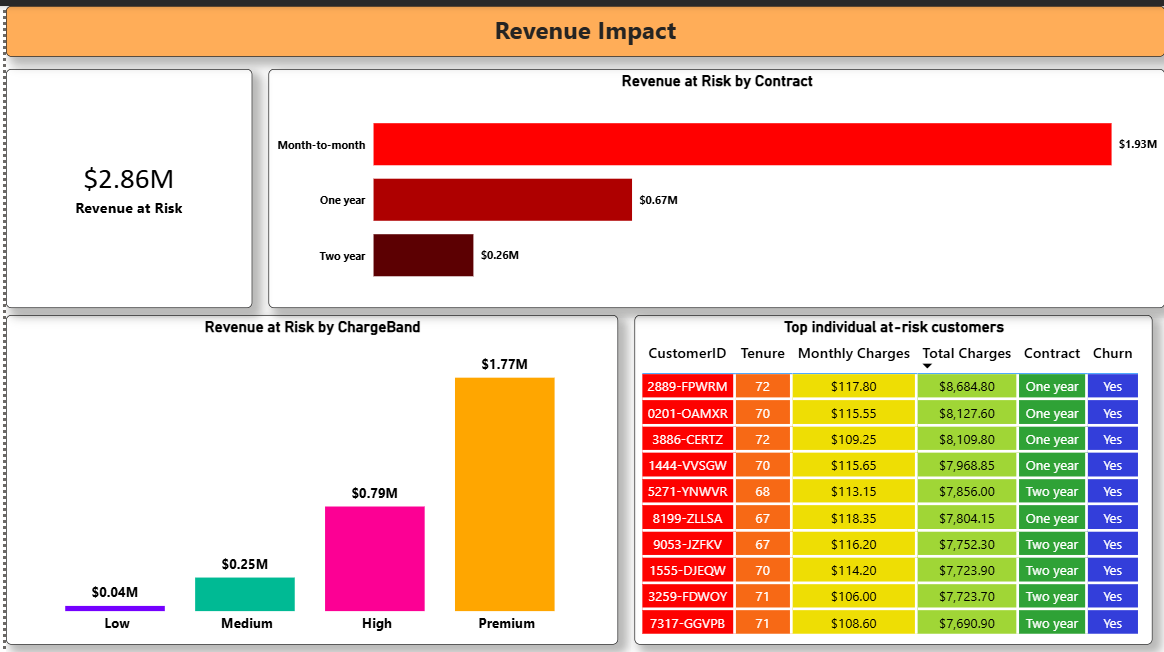

The dashboard page shown, as its layout file describes it:
{"tool":"powerbi","page":{"name":"Page 3","canvas":[1280,720],"ordinal":2},"visuals":[{"type":"cardVisual","fields":{"Data":["2 Cleaned_data.Revenue at Risk"]},"box":[0,70,272,264],"z":0},{"type":"clusteredBarChart","title":"Revenue at Risk by Contract","fields":{"Category":["2 Cleaned_data.Contract"],"Y":["2 Cleaned_data.Revenue at Risk"]},"box":[290,70,990,264],"z":1000},{"type":"columnChart","fields":{"Y":["2 Cleaned_data.Revenue at Risk"],"Category":["2 Cleaned_data.ChargeBand"]},"box":[0,342,676,364],"z":2000},{"type":"tableEx","title":"Top individual at-risk customers","fields":{"Values":["2 Cleaned_data.customerID","Sum(2 Cleaned_data.tenure)","Sum(2 Cleaned_data.MonthlyCharges)","Sum(2 Cleaned_data.TotalCharges)","2 Cleaned_data.Contract","2 Cleaned_data.Churn"]},"box":[694,342,572,364],"z":3000},{"type":"textbox","box":[0,0,1280,56],"z":4000}]}

Visuals, with their boxes in screenshot pixels (x1, y1, x2, y2), scaled from the page's 1280x720 canvas onto the 1164x652 screenshot:
cardVisual - 2 Cleaned_data.Revenue at Risk: (0, 63, 247, 302)
"Revenue at Risk by Contract" clusteredBarChart: (264, 63, 1163, 302)
columnChart - 2 Cleaned_data.Revenue at Risk x 2 Cleaned_data.ChargeBand: (0, 310, 615, 639)
"Top individual at-risk customers" tableEx: (631, 310, 1151, 639)
textbox: (0, 0, 1163, 51)
